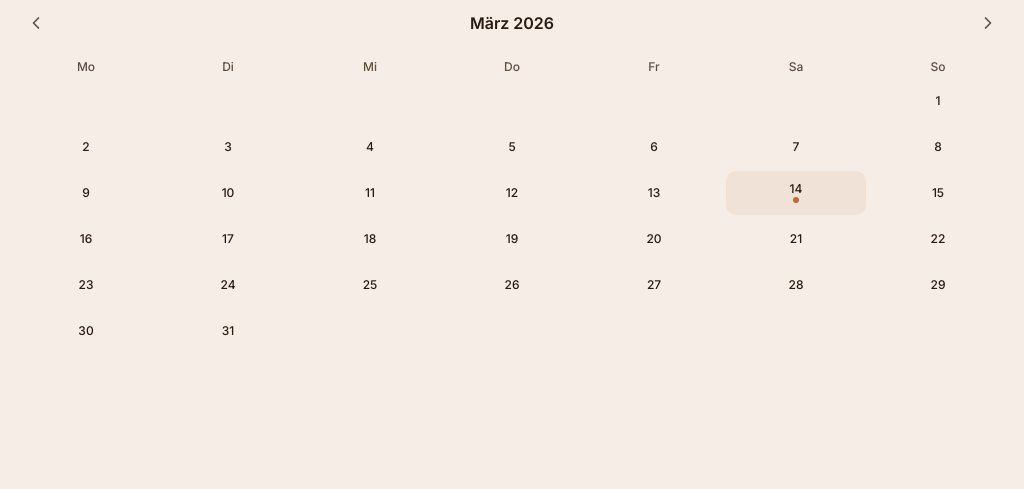
Test: MonthTimeline › öffnet Drill-Down bei Tap auf Tag mit Events
Click the button "14".
click(796, 193)  # box [726, 171, 866, 215]
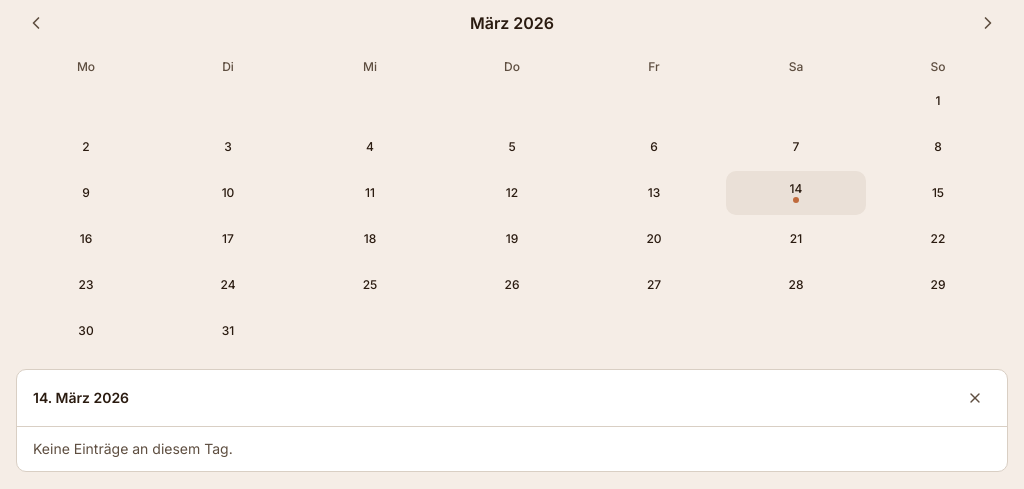
Check: the text "14. März 2026" is shown, box [33, 388, 129, 408]
